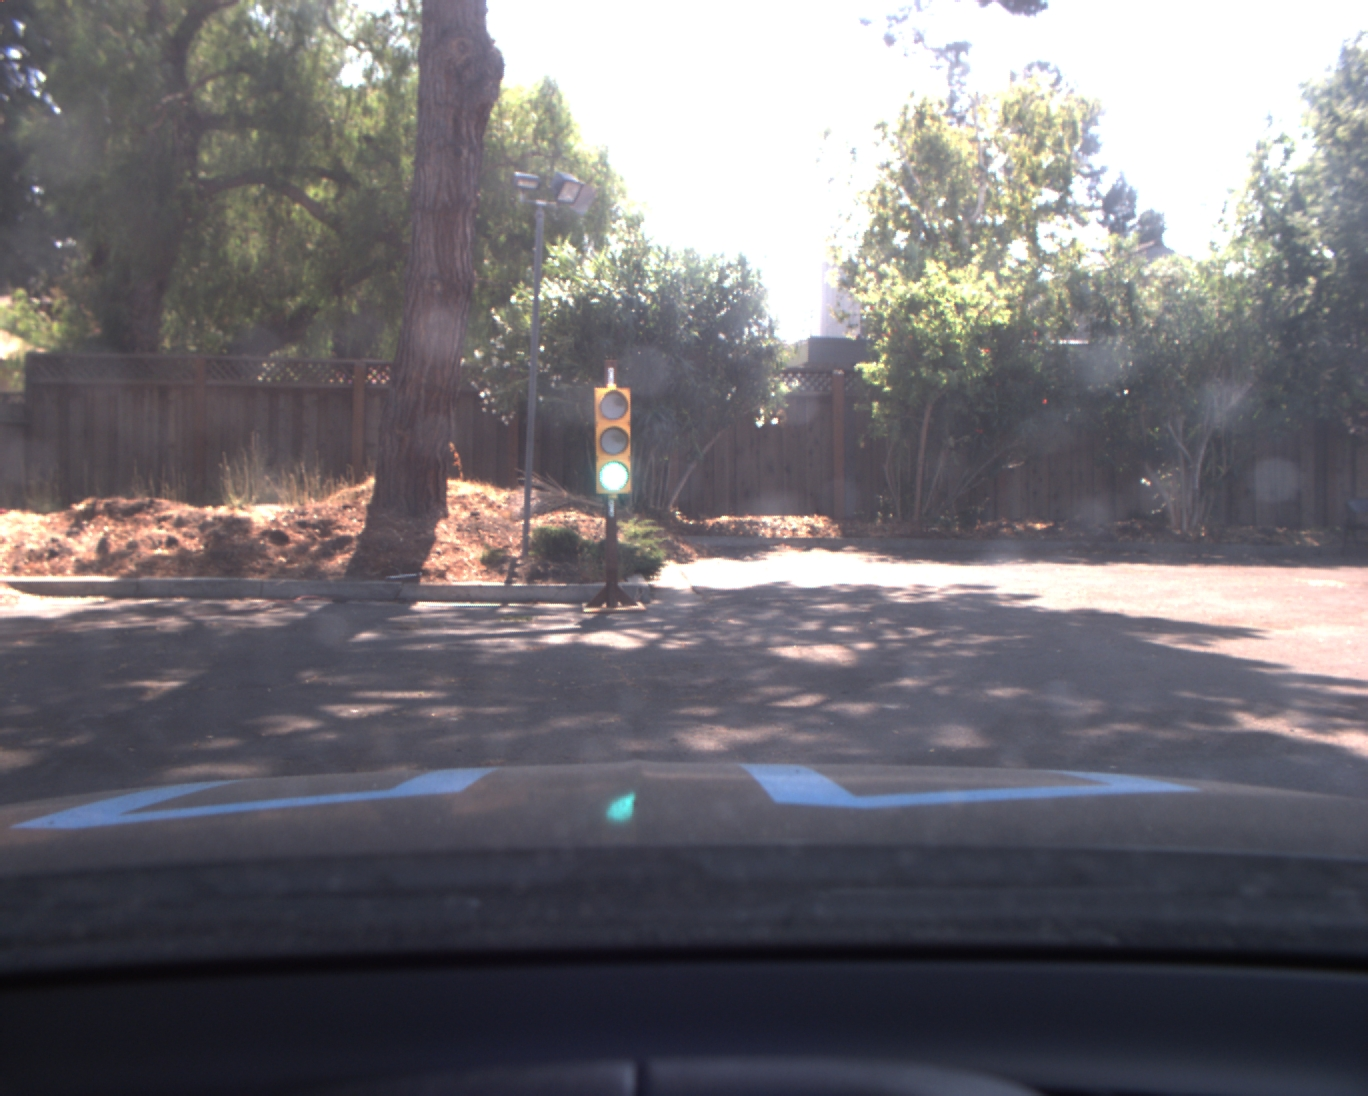green: (595, 386, 639, 498)
